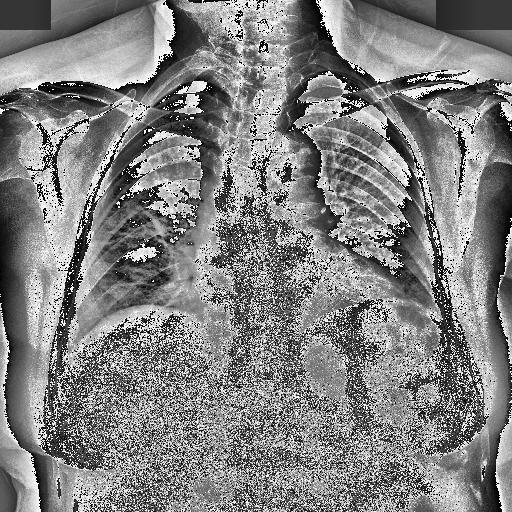0- Aortic enlargement: (261, 133, 329, 214), (270, 130, 330, 208), (254, 130, 322, 195)
11- Pleural thickening: (149, 68, 231, 105)
13- Pulmonary fibrosis: (131, 197, 183, 282)
3- Cardiomegaly: (192, 250, 403, 324), (190, 247, 400, 320), (188, 261, 405, 330)
6- Infiltration: (81, 188, 203, 326)
7- Lung Opacity: (81, 188, 203, 326), (78, 193, 202, 325), (368, 212, 438, 304)
